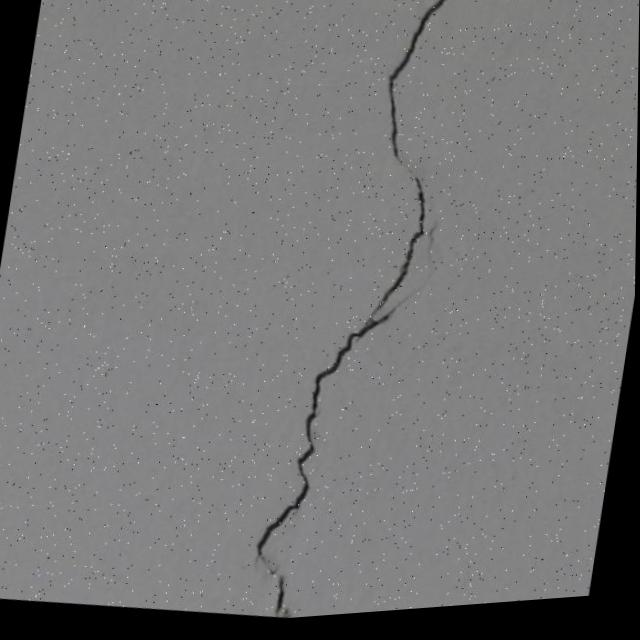Crack: (240, 0, 503, 626)
